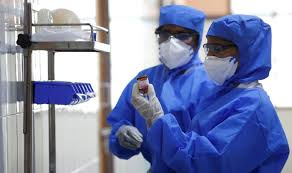mask: (202, 28, 241, 88), (157, 15, 192, 70)
